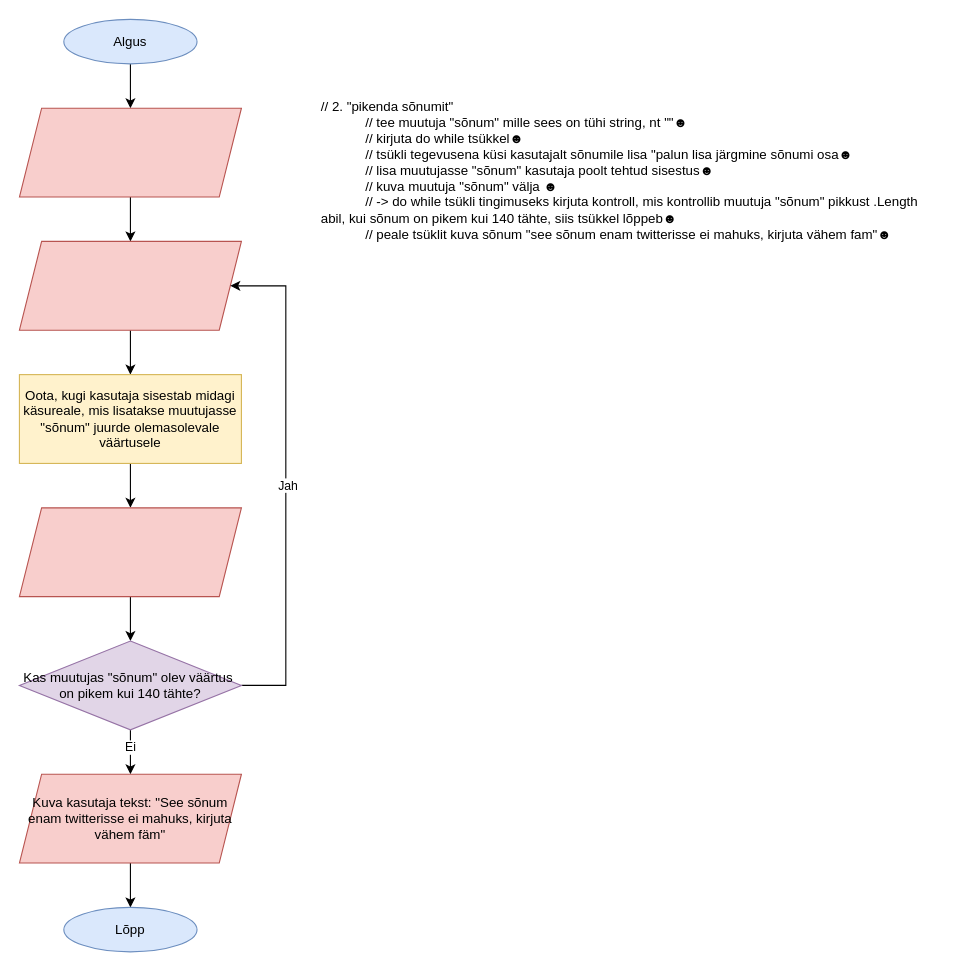
The diagram is 960 pixels wide and 971 high, and some of its shapes have lost their labels. Each missing label, with the centre of its shape:
Kuva kasutajale muutujas "sõnum" oleb väärtus.: point 129,552
Kuva kasutajale tekst: "Palun lisa järgmine sõnumi osa": point 129,285
Tekitamine muutuja "sõnum" mille sisse omistame algväärlusena tühja sõne, või "": point 129,152
